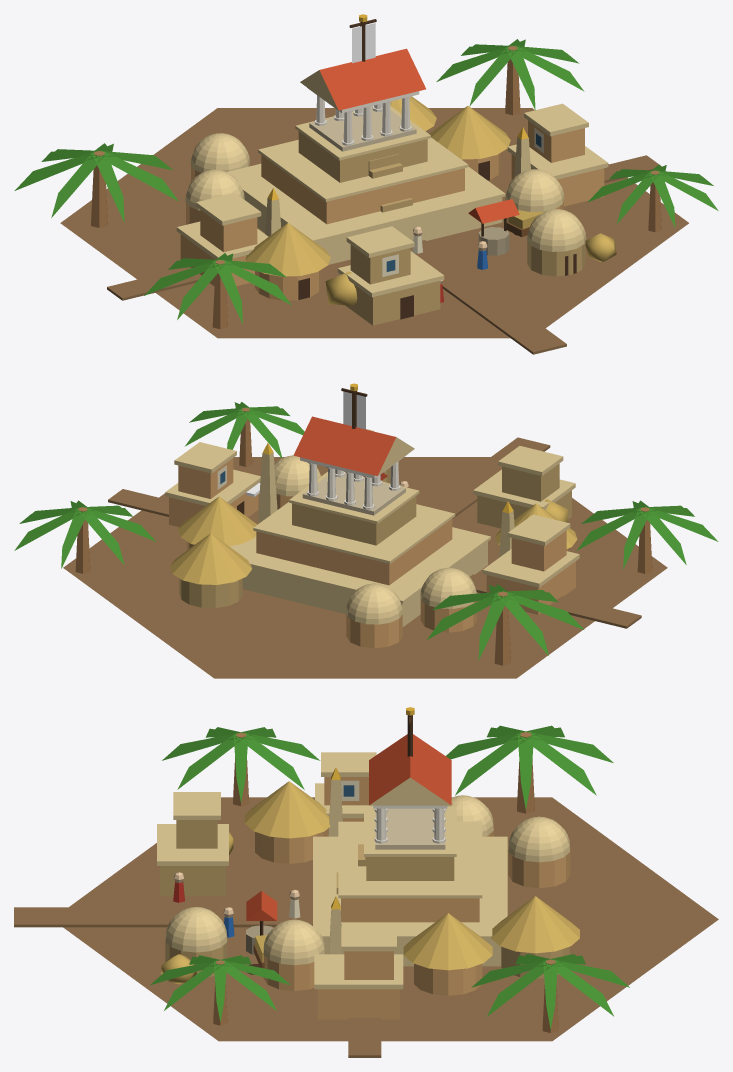
Rendered from capital_0_3.fbx.
3 views of the same model, one above another, from view 1: azimuth 30°, elevation 25°; view 2: azimuth 150°, elevation 25°; view 3: azimuth 270°, elevation 25° (orthographic). The views are drawn at different scales.
Parts seen in each view (by area): view 1: capital_0_3; view 2: capital_0_3; view 3: capital_0_3.
Boxes of the visible parts, x1,y1,x2,y2 form: capital_0_3: [14, 14, 718, 354]; capital_0_3: [14, 383, 718, 678]; capital_0_3: [14, 707, 718, 1057].
Bounding box in the file's own units: 218 × 73.05 × 222.
